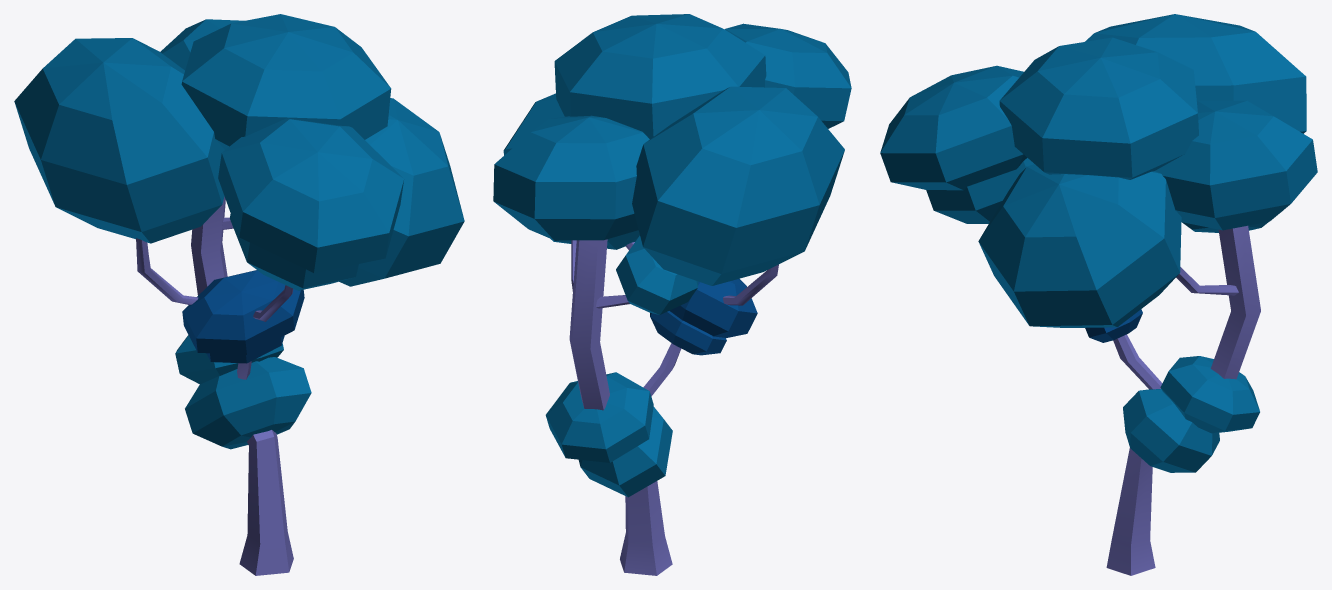
File: magic_leaf_tree_bent_cyan.fbx
The picture shows the model from 3 angles, left to right: view 1: azimuth 30°, elevation 25°; view 2: azimuth 150°, elevation 25°; view 3: azimuth 270°, elevation 25°; orthographic projection. The views are drawn at different scales.
Parts seen in each view (by area): view 1: pSphere8, pSphere6, pSphere9, pSphere4, pSphere10, pCylinder1, pSphere2, pSphere14, pSphere11, pSphere7, pCylinder7, pSphere12; view 2: pSphere8, pSphere9, pSphere7, pCylinder1, pSphere11, pSphere6, pSphere10, pSphere13, pSphere2, pSphere12, pSphere4, pCylinder7 (+1 smaller); view 3: pSphere4, pSphere9, pSphere7, pSphere6, pSphere8, pCylinder1, pSphere10, pSphere11, pSphere14, pCylinder2, pSphere12, pCylinder3.
Part boxes in pixels (x1,y1,x2,y2): pSphere8: [14, 38, 224, 243]; pSphere6: [218, 118, 403, 272]; pSphere9: [181, 14, 391, 149]; pSphere4: [339, 98, 464, 286]; pSphere10: [185, 357, 311, 449]; pCylinder1: [191, 196, 293, 575]; pSphere2: [182, 270, 304, 354]; pSphere14: [230, 214, 358, 290]; pSphere11: [175, 335, 283, 384]; pSphere7: [160, 19, 244, 70]; pCylinder7: [136, 238, 198, 304]; pSphere12: [206, 335, 284, 363]; pSphere8: [632, 86, 844, 285]; pSphere9: [554, 14, 766, 138]; pSphere7: [493, 115, 649, 240]; pCylinder1: [569, 239, 672, 575]; pSphere11: [545, 372, 653, 462]; pSphere6: [724, 23, 851, 128]; pSphere10: [578, 407, 672, 497]; pSphere13: [616, 235, 698, 314]; pSphere2: [669, 278, 757, 337]; pSphere12: [650, 311, 726, 355]; pSphere4: [503, 93, 639, 249]; pCylinder7: [723, 264, 778, 305]; pSphere4: [978, 164, 1181, 327]; pSphere9: [999, 37, 1198, 179]; pSphere7: [1155, 100, 1317, 230]; pSphere6: [880, 65, 1027, 190]; pSphere8: [1085, 14, 1306, 133]; pCylinder1: [1106, 225, 1260, 575]; pSphere10: [1123, 389, 1219, 472]; pSphere11: [1160, 356, 1259, 433]; pSphere14: [926, 158, 1033, 223]; pCylinder2: [1113, 334, 1162, 389]; pSphere12: [1085, 309, 1142, 342]; pCylinder3: [1176, 267, 1238, 295].
Size of the model in its own units: 30.2 by 42.73 by 33.34.
